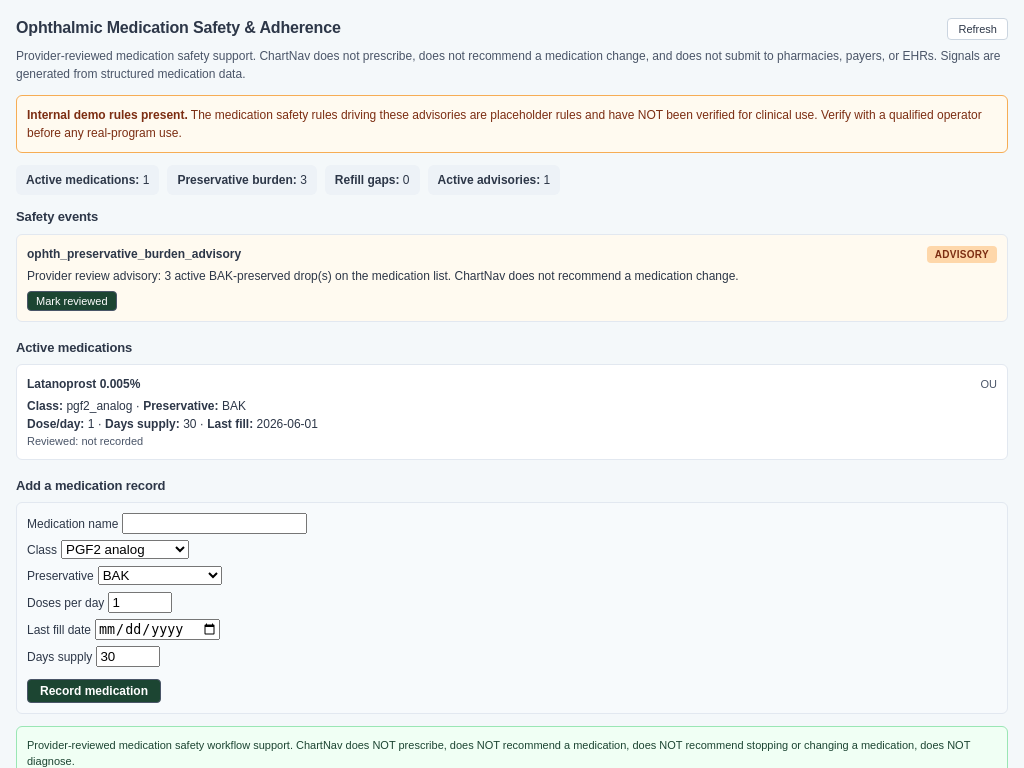
Scenario: MedicationSafetyPanel — interactions › surfaces acknowledge error in inline banner
Click the button with test id "medication-safety-event-ack-btn-1": click(72, 300) top-left (27, 290), bottom-right (116, 310)
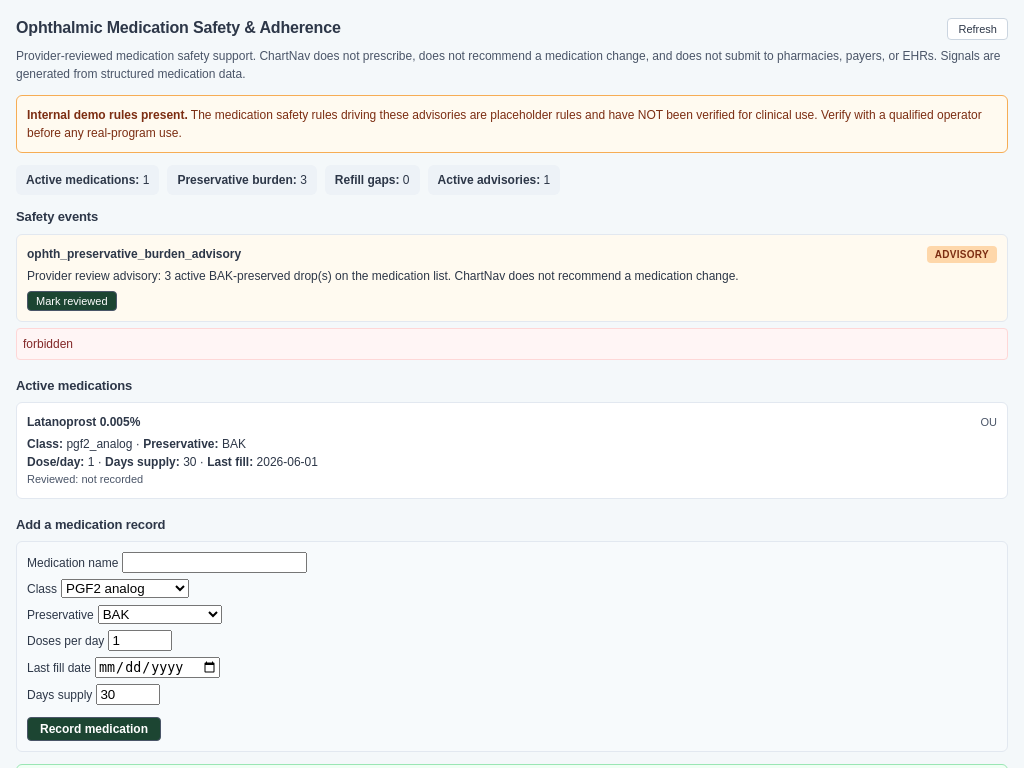
expect the text "forbidden" is shown: met, box top-left (16, 328), bottom-right (1008, 360)
expect the text with test id "medication-safety-ack-error" reads "forbidden": met, box top-left (23, 336), bottom-right (73, 350)
